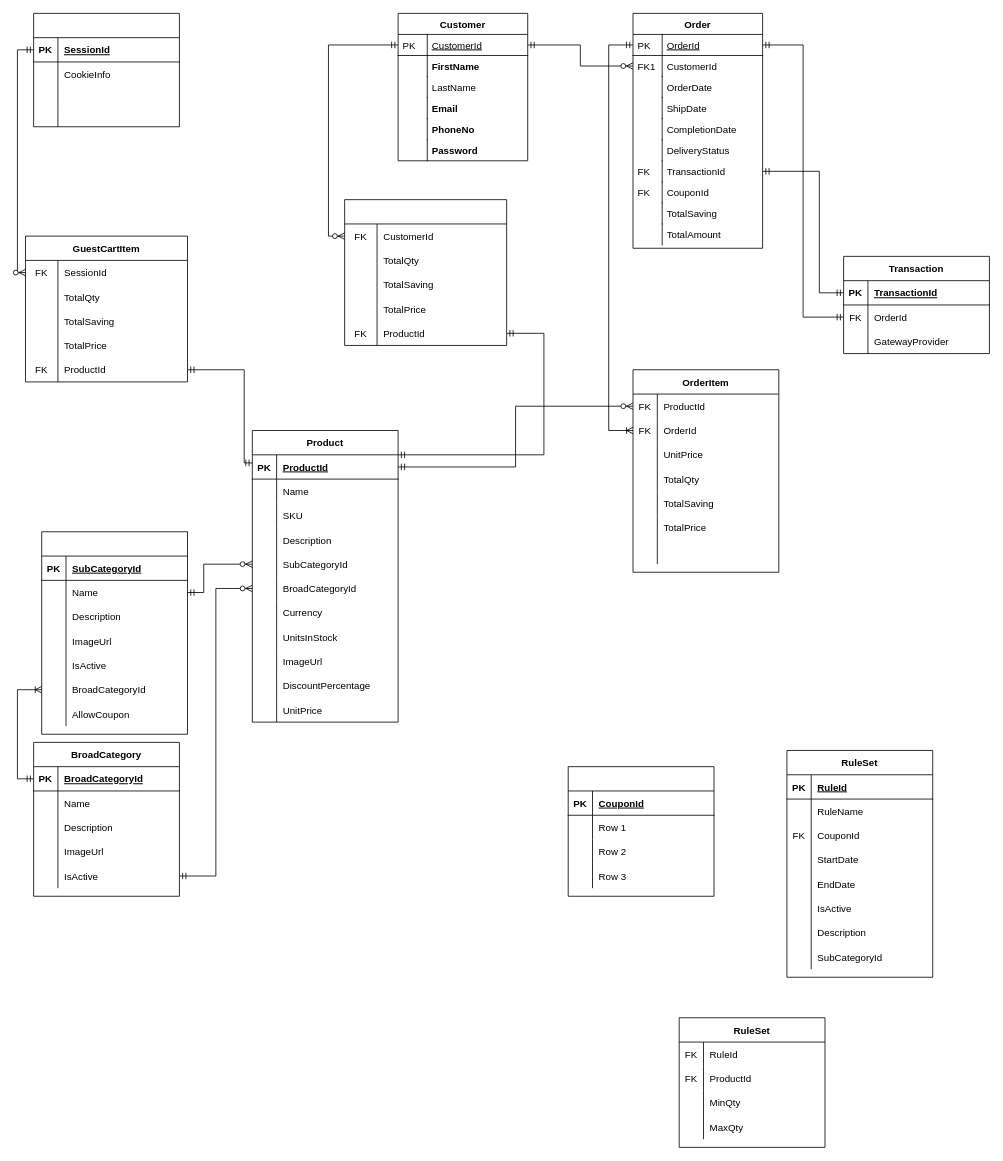
This 1003x1161 diagram has some shape labels left out. The box of each missing label's shape, as (x1, y1, x2, y2) in pixels:
Coupons: (567, 766, 714, 896)
CustomerCartItem: (344, 199, 507, 345)
SubCategoty: (41, 531, 188, 734)
User: (33, 13, 179, 127)
